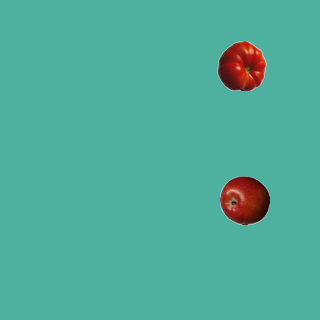Apple Braeburn: (219, 175, 269, 225)
Tomato 3: (216, 40, 266, 90)
